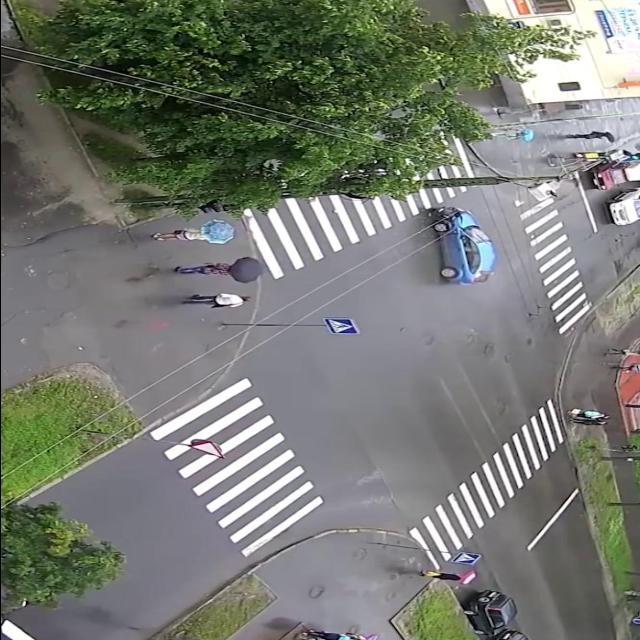accident: (418, 197, 502, 289)
